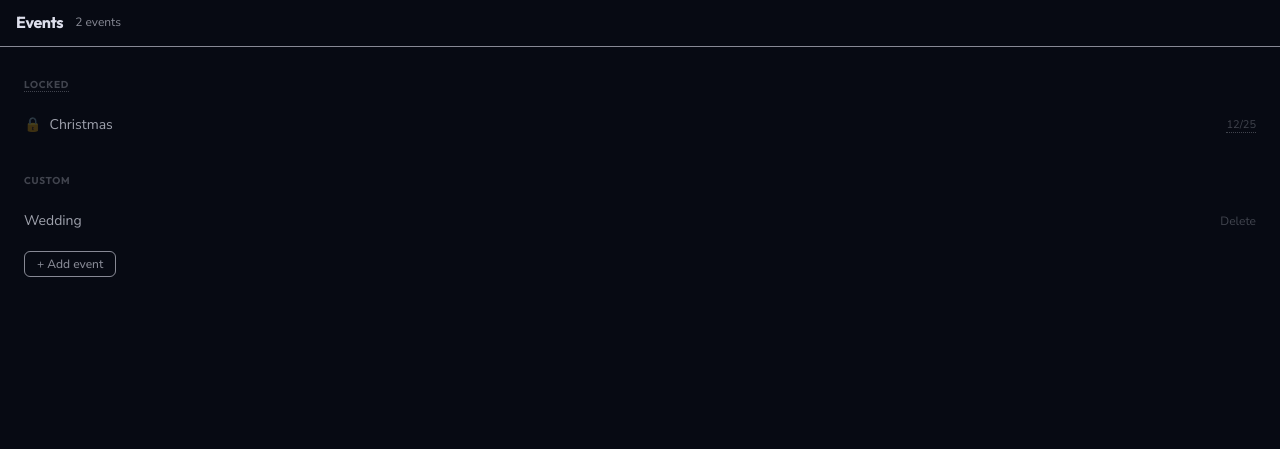
Scenario: ConfigEventsPanel › shows add form when + Add event is clicked
Click the button "+ Add event" at (70, 264), box left=24, top=251, right=116, bottom=277
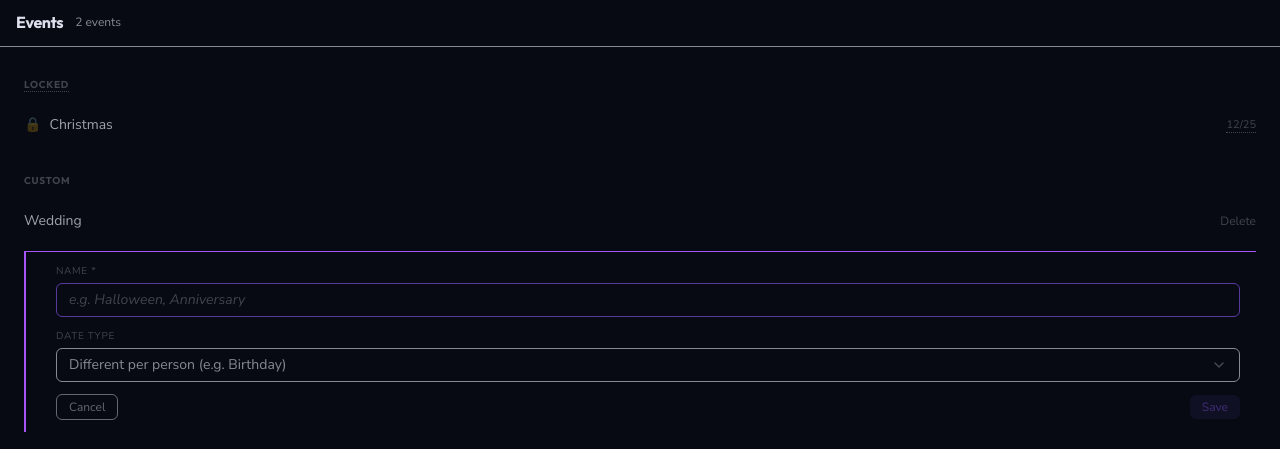
Now the field named "event name" is shown, box left=56, top=283, right=1240, bottom=317
